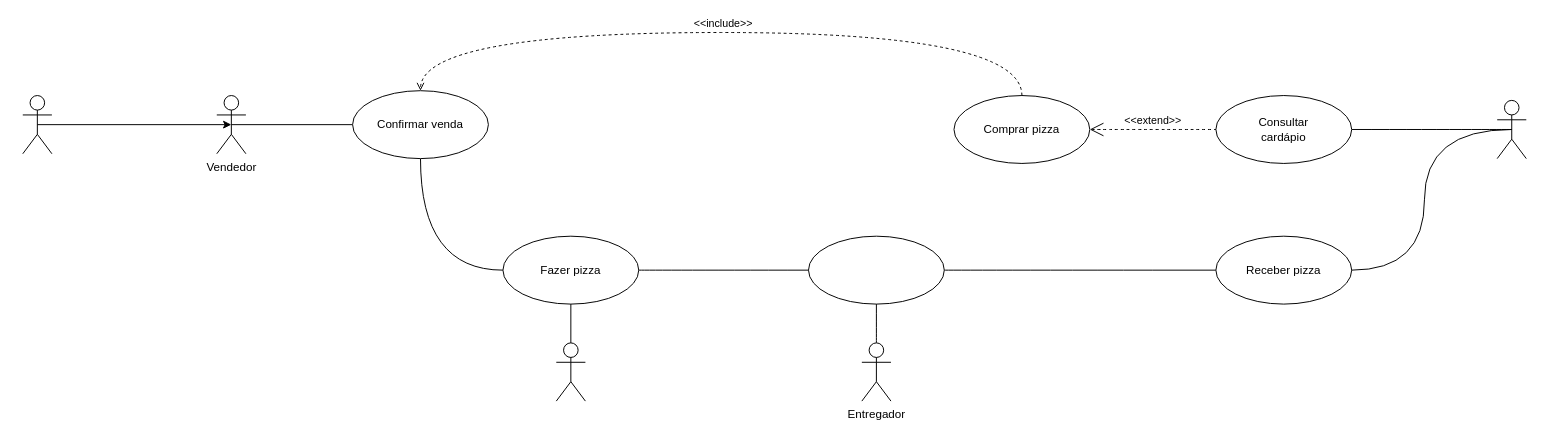
This 1558x437 diagram has some shape labels left out. The shapes that lost their labels are listed below. From the top down, each one's centre as x and y in pixels, then its label:
point 37,124: Gerente
point 1511,129: Comprador
point 876,269: Entregar pizza
point 570,371: Pizzaiolo
